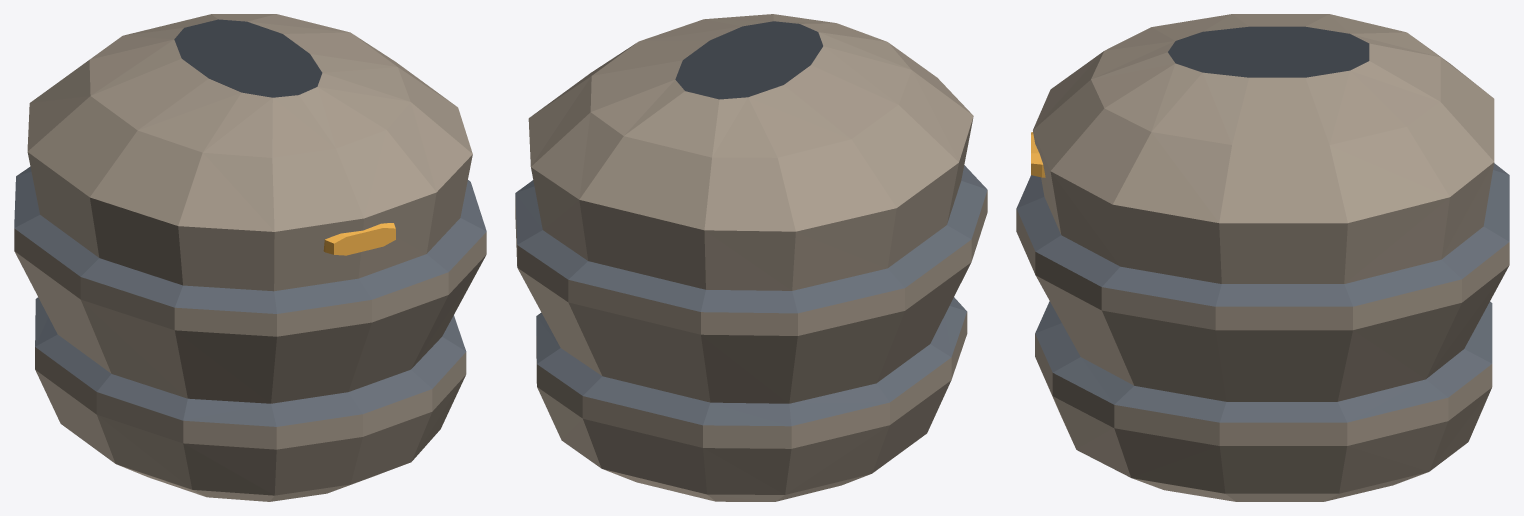
The model's file is pauldron_heavy.glb.
3 renders of one model, left to right at view 1: azimuth 30°, elevation 25°; view 2: azimuth 150°, elevation 25°; view 3: azimuth 270°, elevation 25°, orthographic. The views are drawn at different scales.
Visible parts, largest first — view 1: pauldron_heavy; view 2: pauldron_heavy; view 3: pauldron_heavy.
Part boxes in pixels (left/top/right/bottom): pauldron_heavy: left=14, top=14, right=486, bottom=501; pauldron_heavy: left=515, top=14, right=987, bottom=501; pauldron_heavy: left=1016, top=14, right=1509, bottom=501.
Bounding box in the file's own units: 1.08 × 1 × 1.14.
